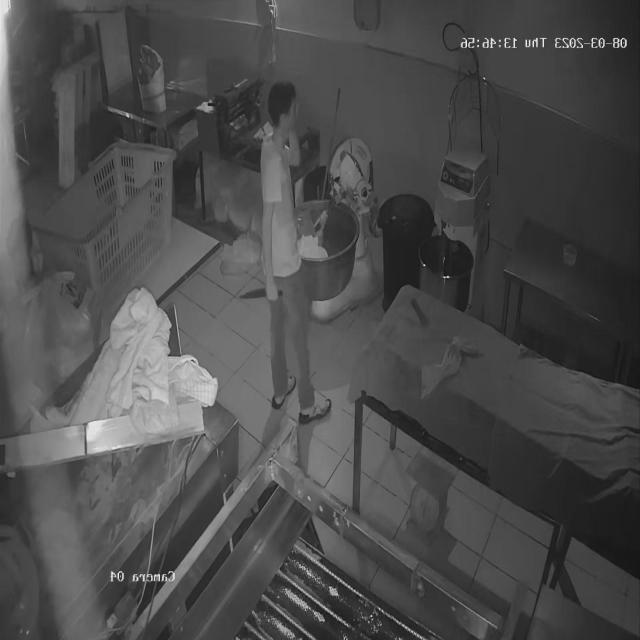Knife: (238, 278, 290, 312)
